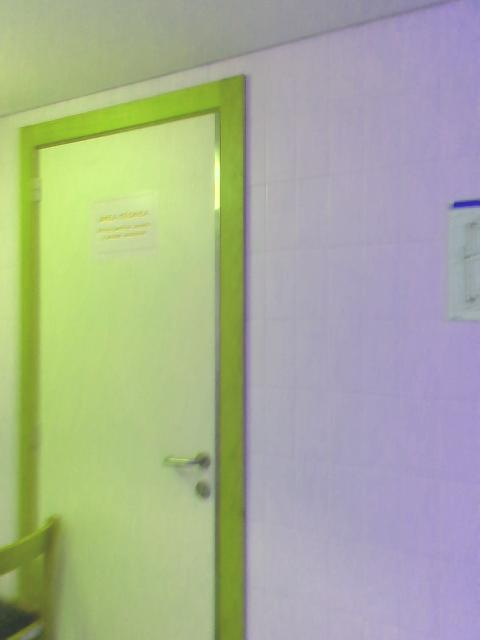closed_door: (13, 68, 252, 639)
